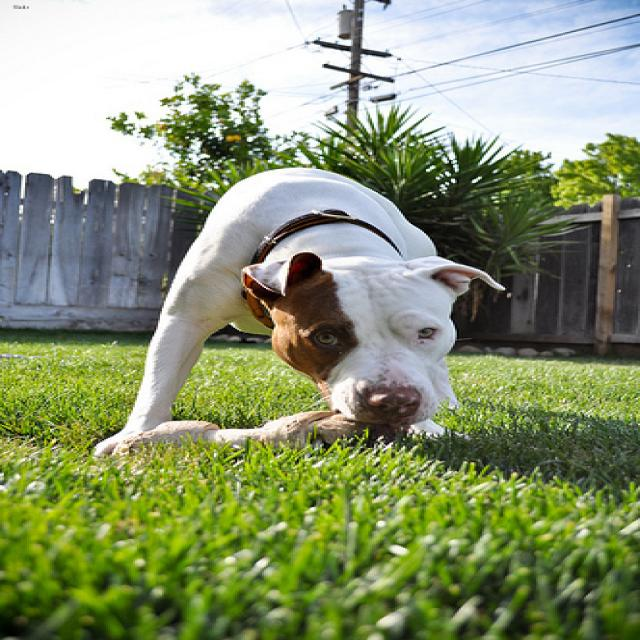dog-american_pit_bull_terrier: (87, 159, 515, 462)
